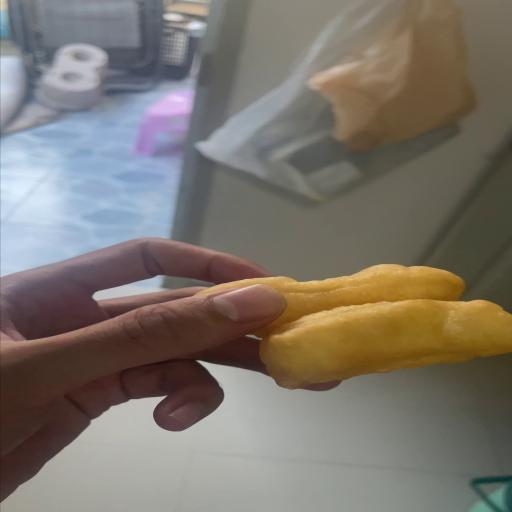street_golden_good: (193, 264, 512, 390)
